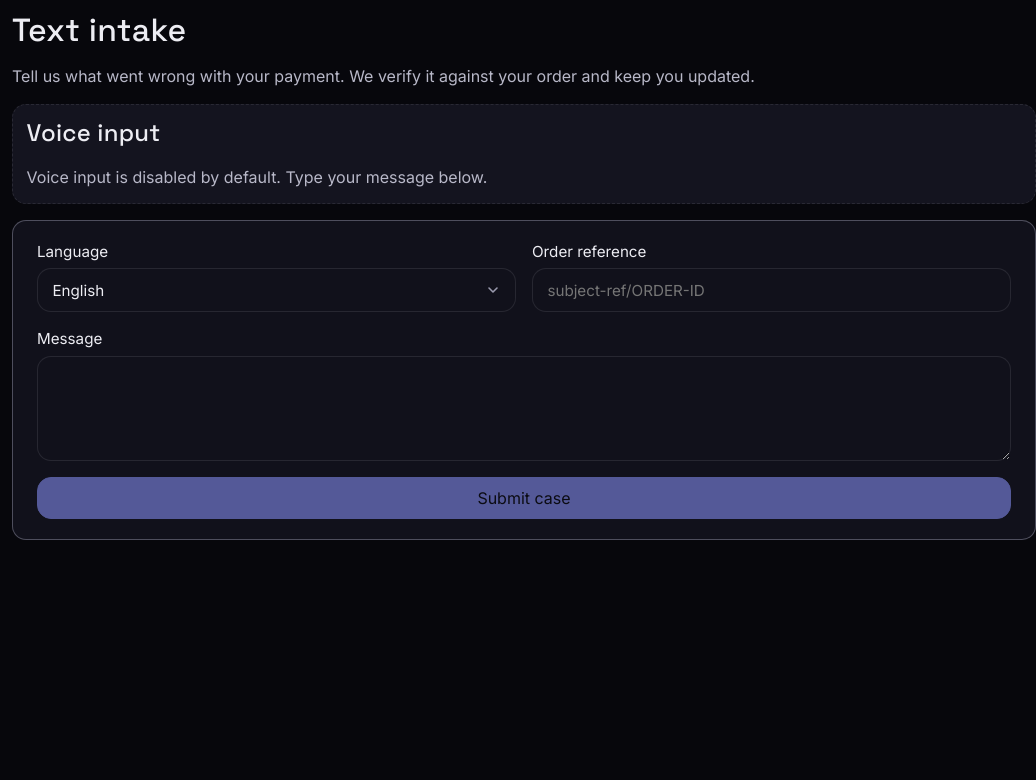
it: standalone browser checks › intake covers loading and success against local fixture
The width and height of the screenshot is (1036, 780).
Type "subject-demo-9/DEMO-ORDER-42" into the field labelled "Order reference".
click(772, 290); type("subject-demo-9/DEMO-ORDER-42")  # box [532, 268, 1011, 312]
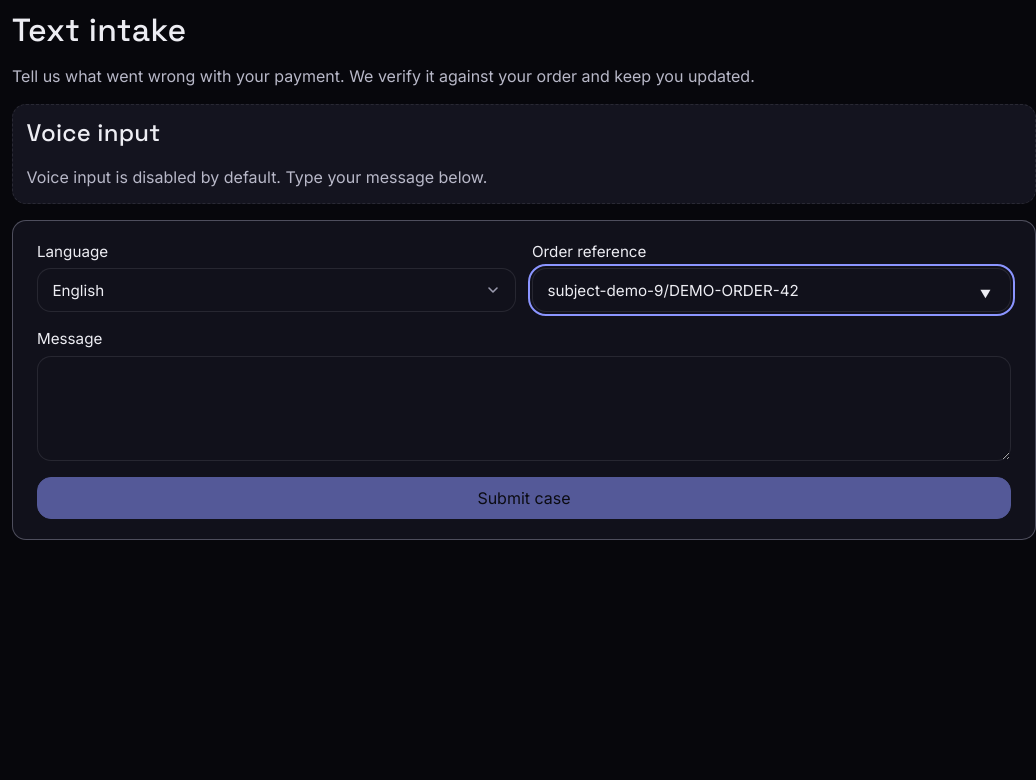
Type "Paid twice" into the text box named "Complaint message".
click(524, 408); type("Paid twice")  # box [37, 356, 1011, 461]
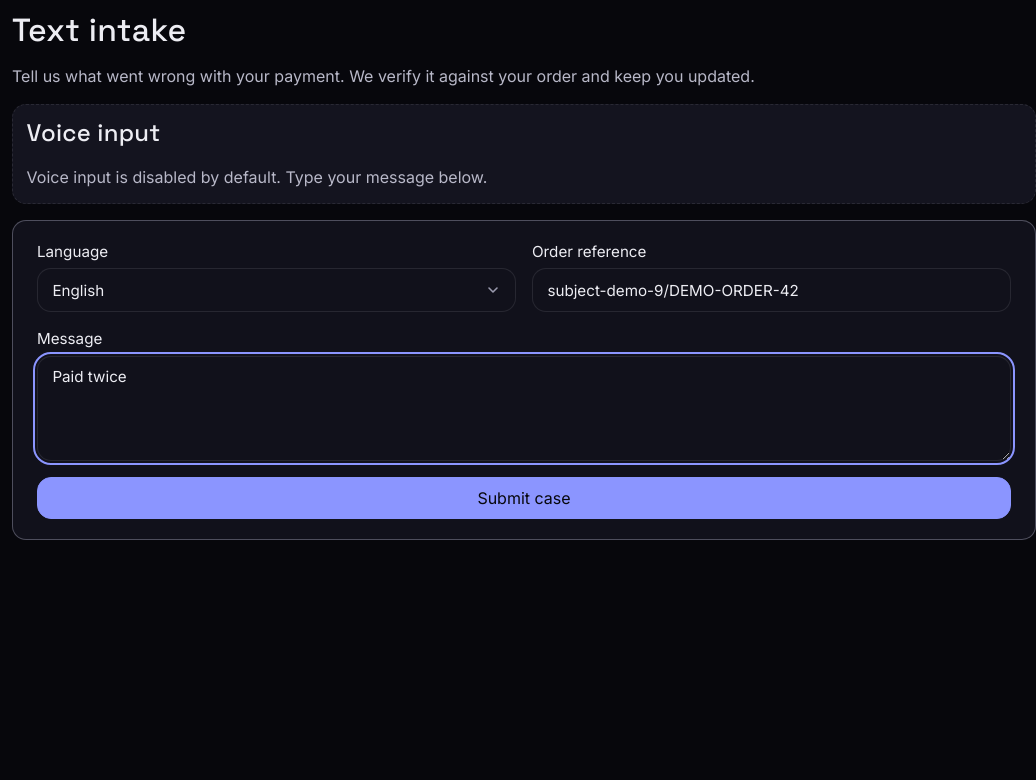
Click the button "Submit case".
click(524, 498)  # box [37, 477, 1011, 520]
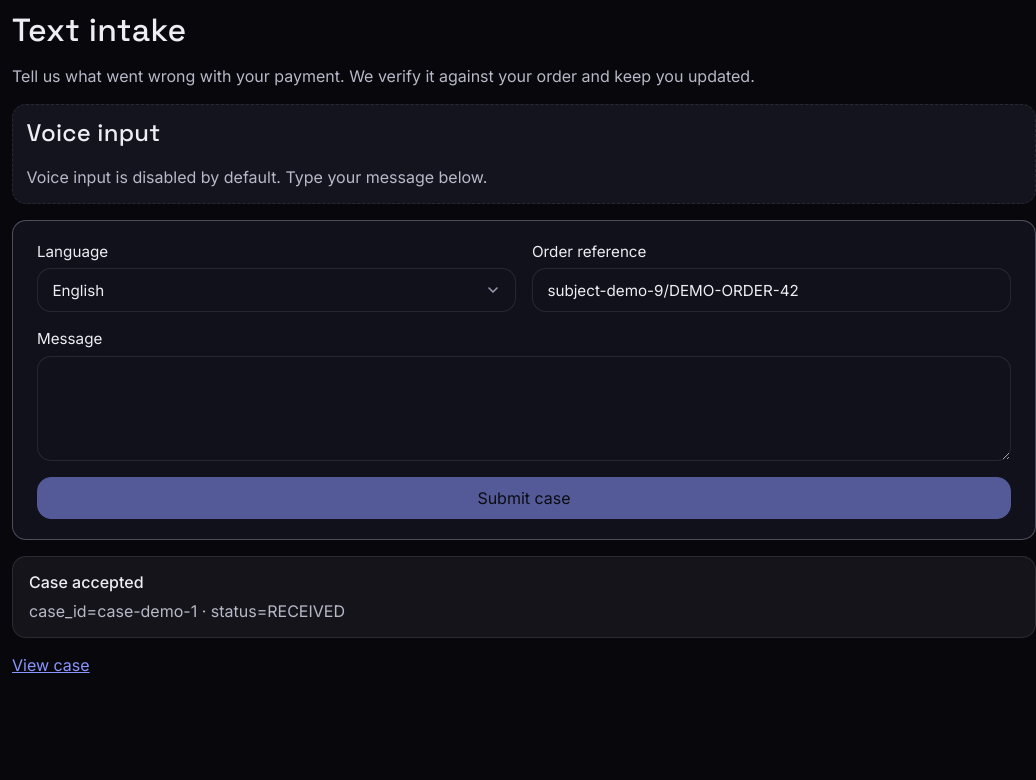
Check: the message with test id "state-empty" shows "RECEIVED", box [29, 601, 345, 621]
